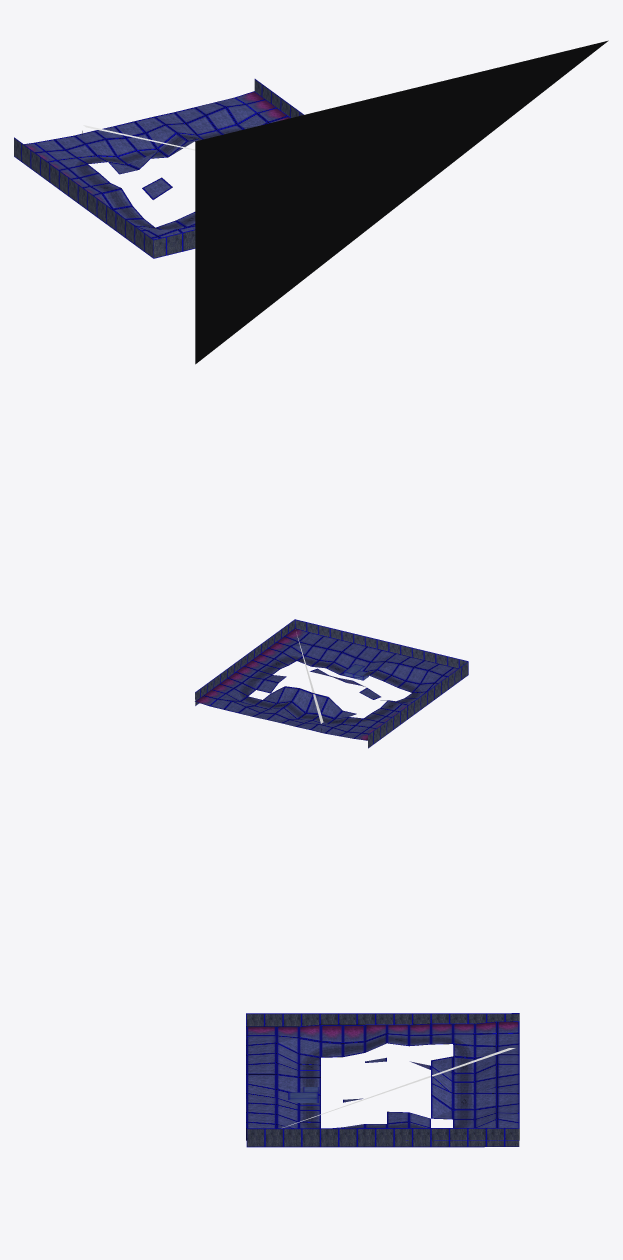
The model's file is dirt.glb.
The picture shows the model from 3 angles, top to bottom: view 1: azimuth 30°, elevation 25°; view 2: azimuth 150°, elevation 25°; view 3: azimuth 270°, elevation 25°; orthographic projection. The views are drawn at different scales.
Visible parts, largest first — view 1: dirt; view 2: dirt; view 3: dirt.
Boxes of the visible parts, <box> form: dirt: <box>14,40,608,364</box>; dirt: <box>195,619,468,748</box>; dirt: <box>246,1013,519,1147</box>.
Size of the model in its own units: 22993 by 9665 by 23130.
Materials: 14 (11 with a texture image).
